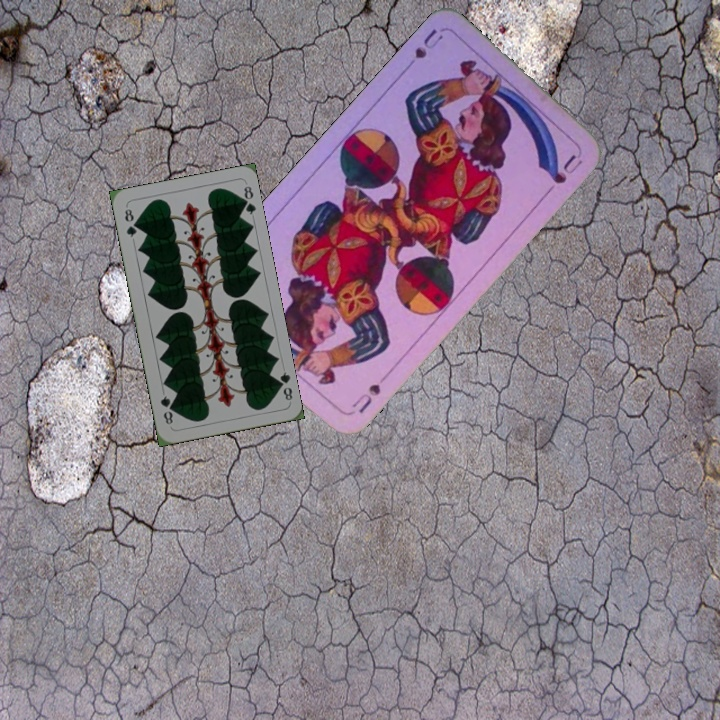G8: (272, 368, 295, 404), (121, 204, 140, 240)
SU: (399, 24, 446, 75), (345, 370, 391, 417)
